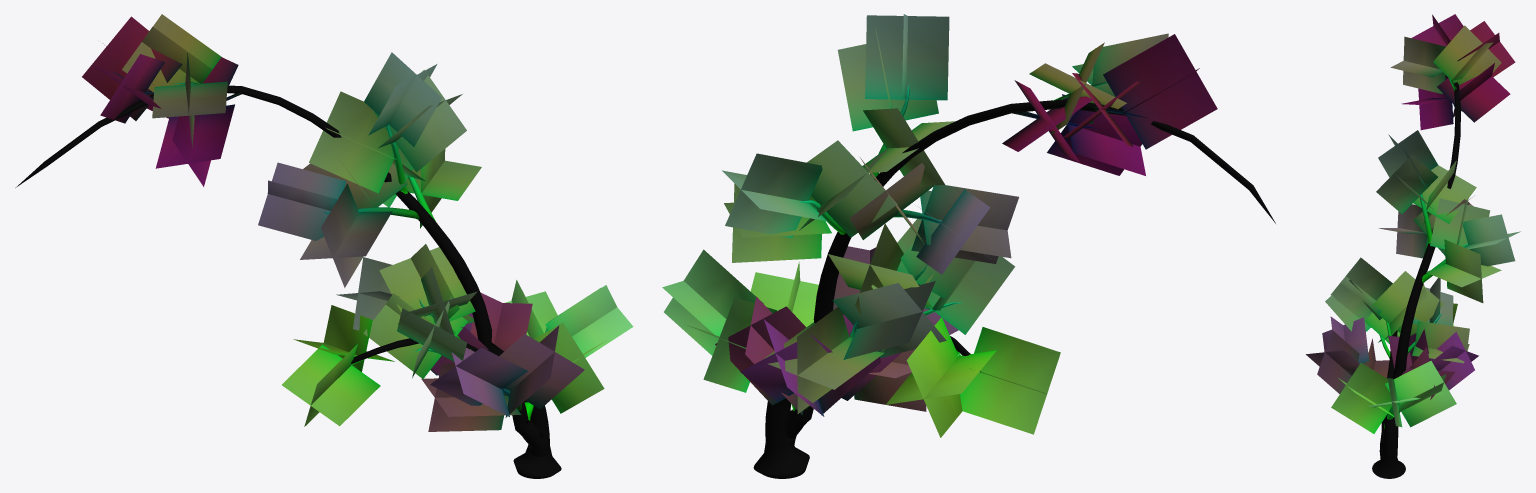
The model's file is URP_P5_Tree_11_LOD_0.fbx.
The picture shows the model from 3 angles, left to right: view 1: azimuth 30°, elevation 25°; view 2: azimuth 150°, elevation 25°; view 3: azimuth 270°, elevation 25°; orthographic projection. The views are drawn at different scales.
Visible parts, largest first — view 1: Tree_11_LOD_0; view 2: Tree_11_LOD_0; view 3: Tree_11_LOD_0.
Part boxes in pixels (<box>): Tree_11_LOD_0: <box>15,14,633,478</box>; Tree_11_LOD_0: <box>662,14,1275,478</box>; Tree_11_LOD_0: <box>1306,14,1520,478</box>.
Size of the model in its own units: 734 by 597 by 349.
